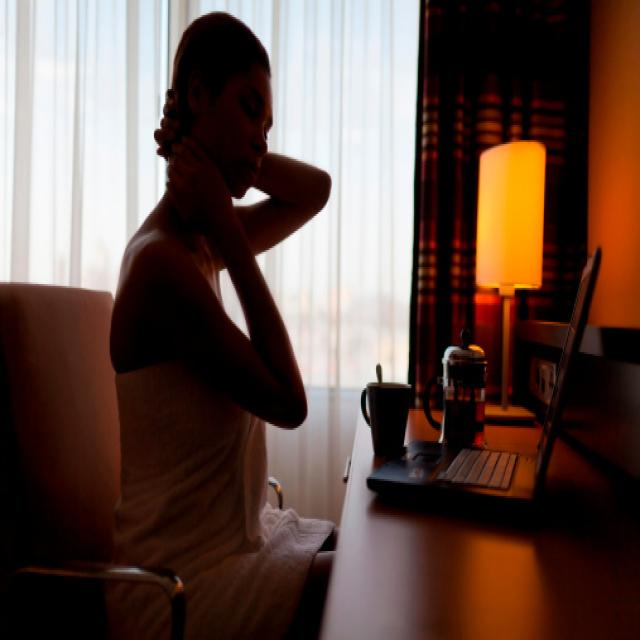Bottle: (437, 337, 502, 441)
Cup: (367, 348, 414, 482)
People: (132, 38, 322, 640)
Table: (343, 326, 640, 640)
chair: (1, 248, 308, 640)
